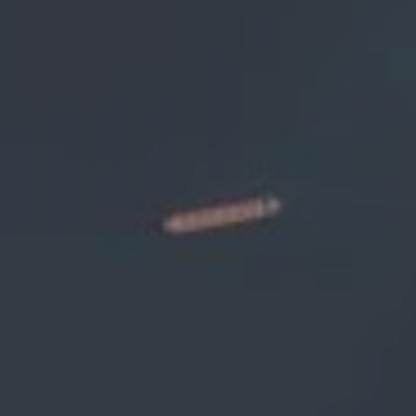ship: (147, 182, 289, 245)
